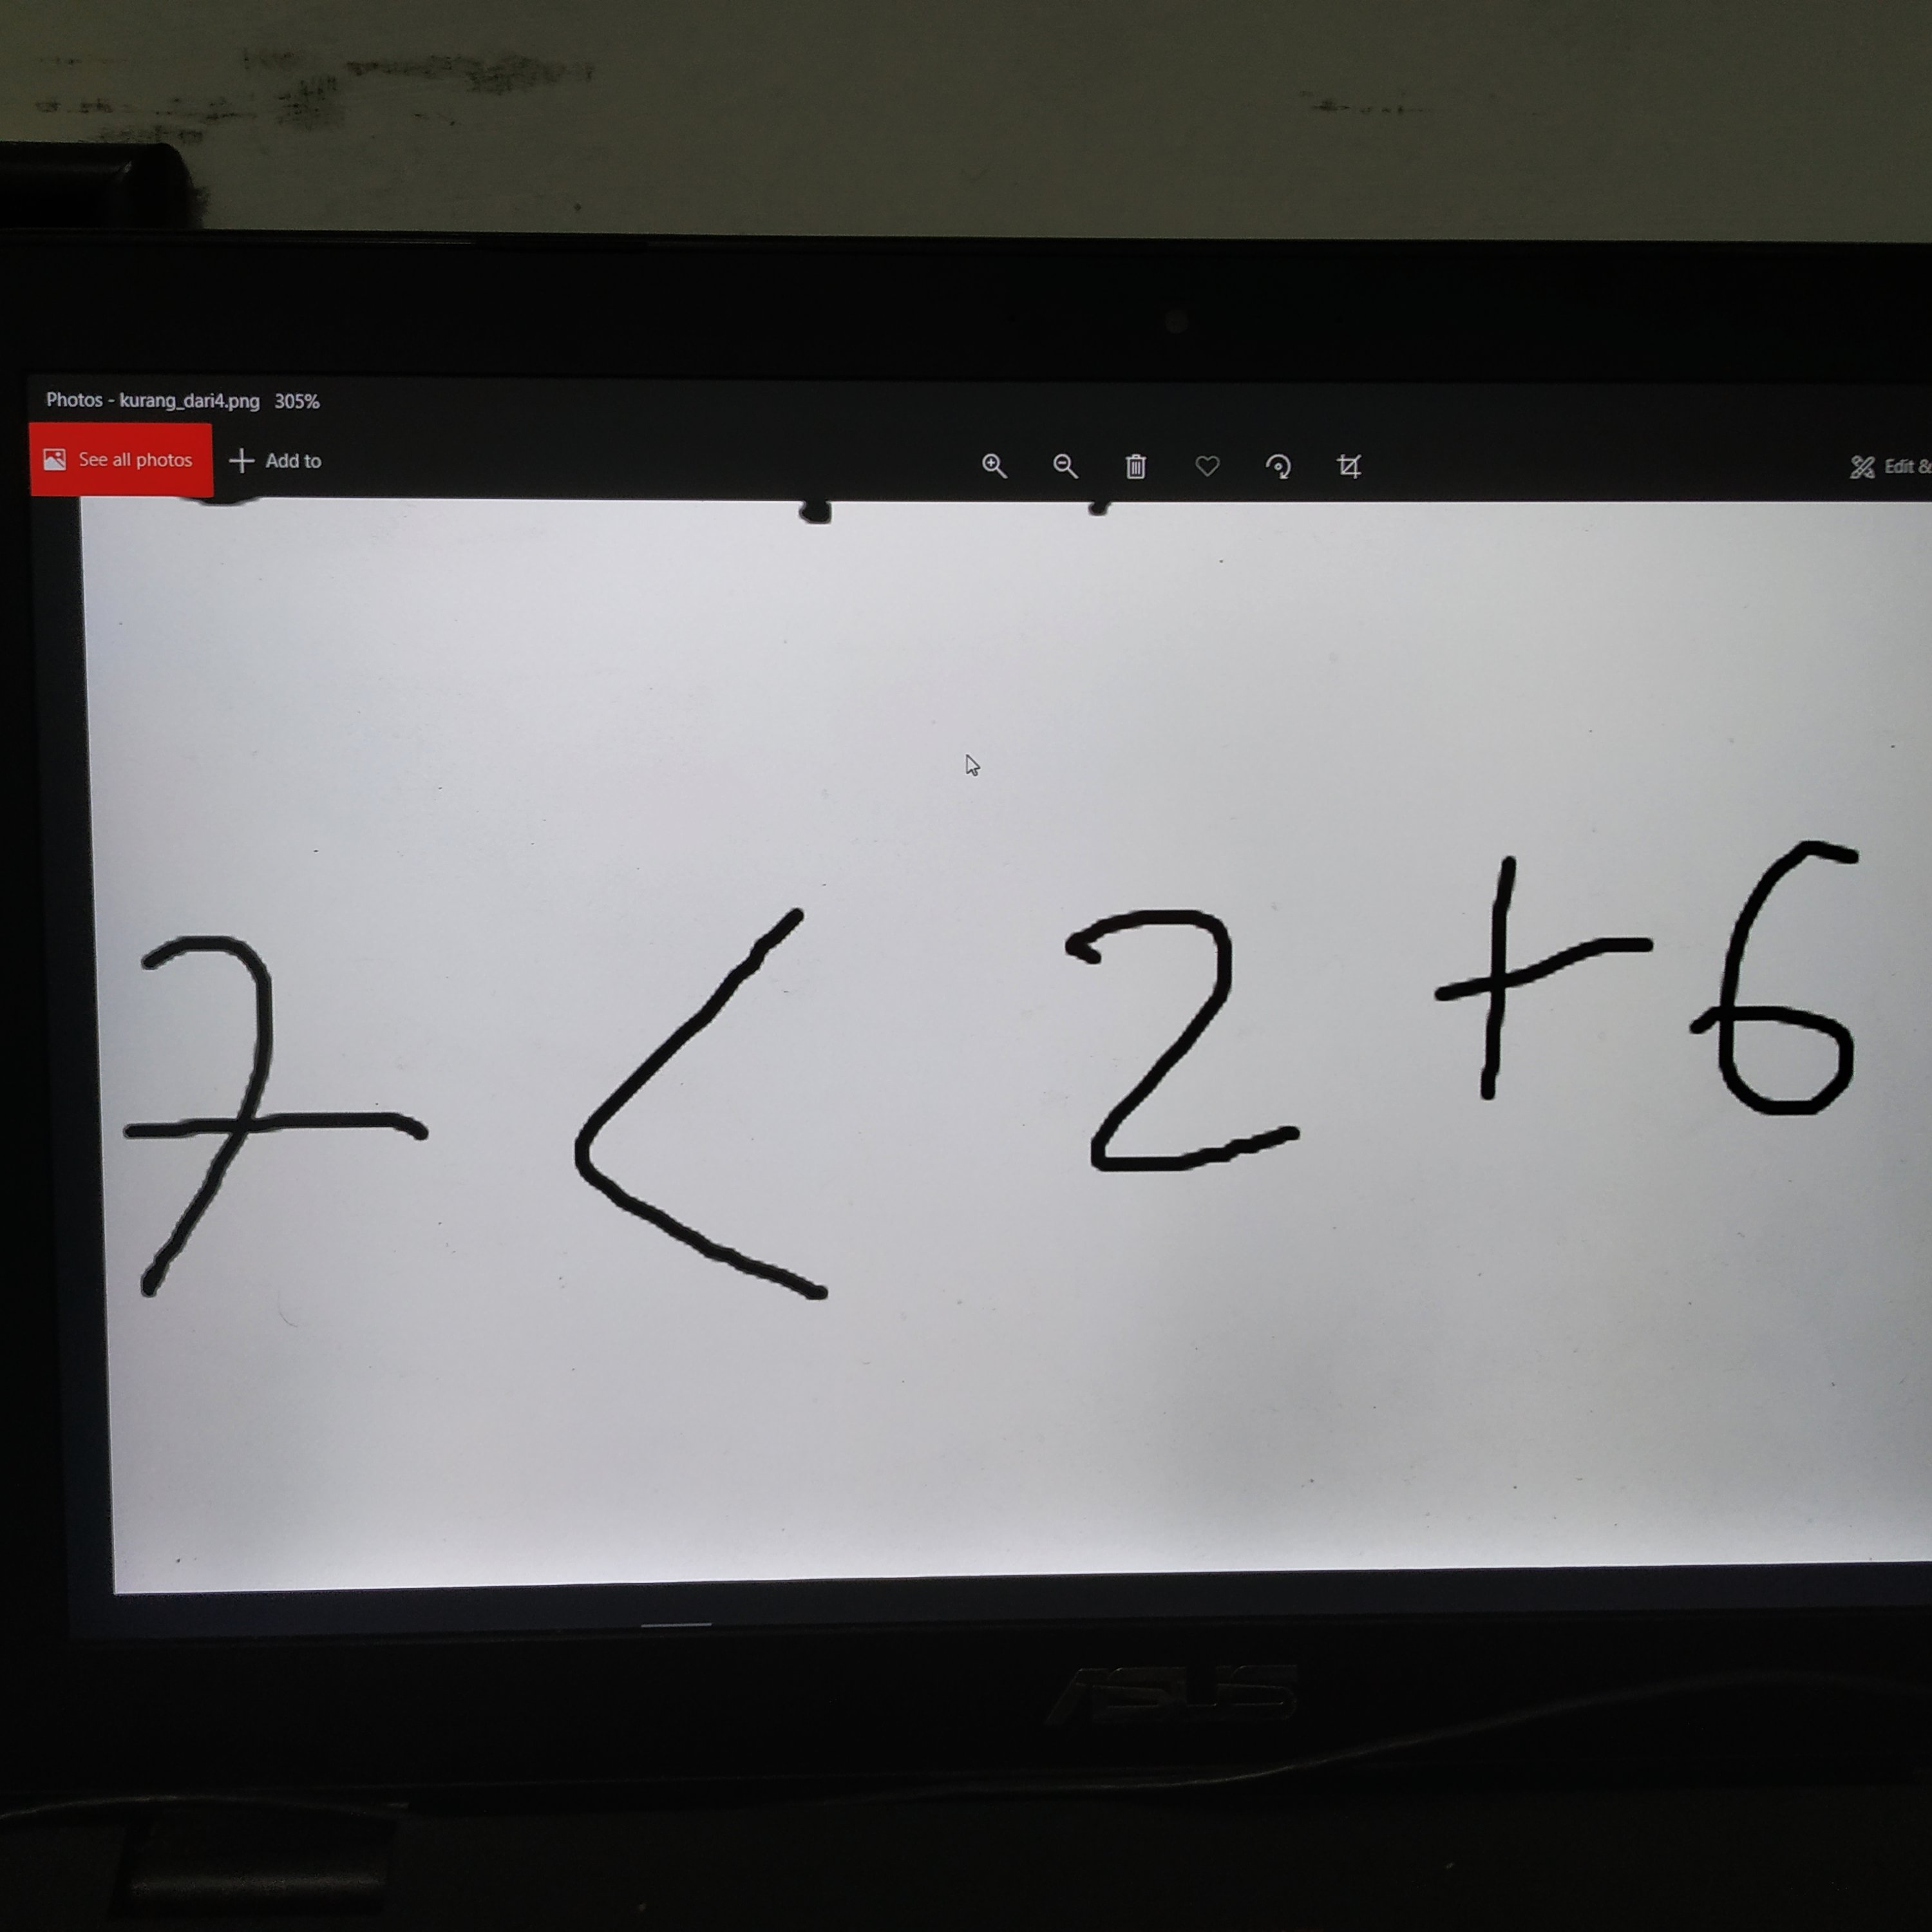lessthan: (547, 895, 859, 1327)
num2: (1037, 884, 1341, 1186)
num6: (1694, 819, 1897, 1139)
num7: (108, 920, 465, 1313)
sum: (1406, 842, 1685, 1110)
